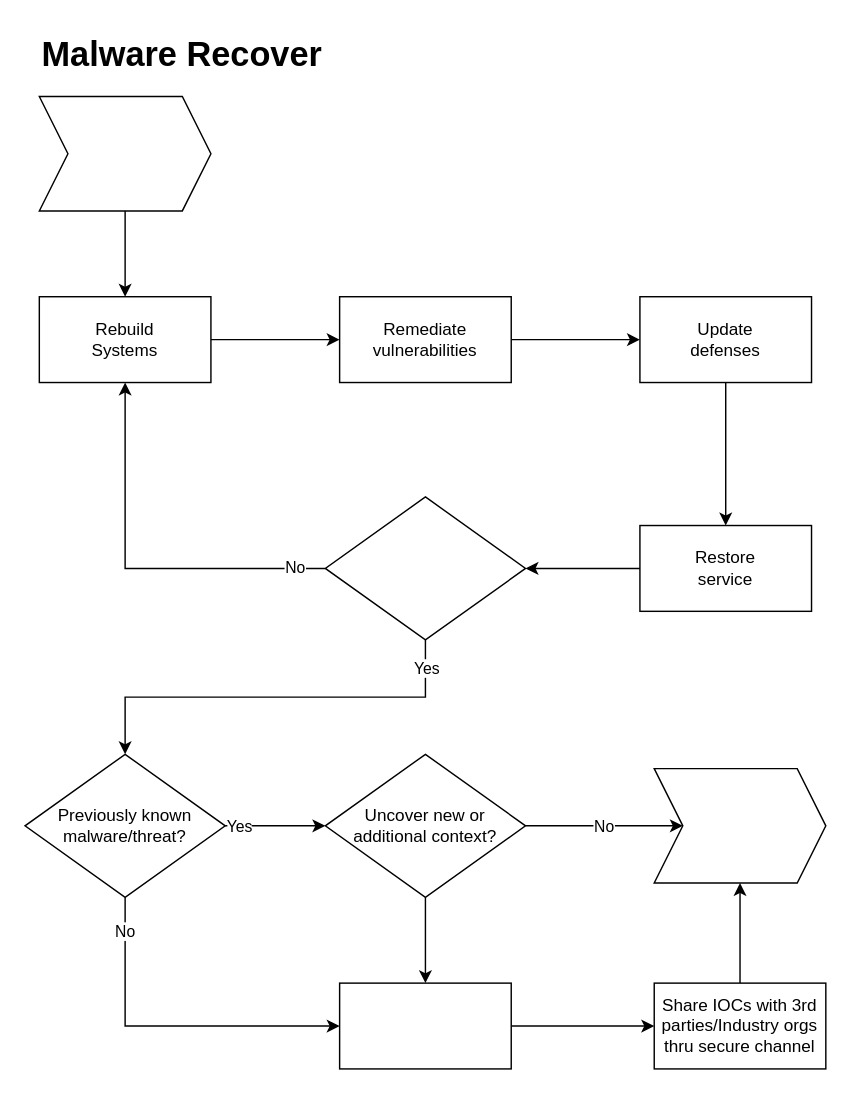
The diagram is 851 pixels wide and 1094 high, and some of its shapes have lost their labels. Here are the shapes that lost their labels. From the top down, the box of each, then its label:
(38, 95, 211, 211): Previous (Contain & Eradicate)
(324, 495, 526, 640): All affected systems restored?
(653, 767, 826, 883): Proceed (Post-Incident Review)
(338, 982, 511, 1069): Redact sensitive data
